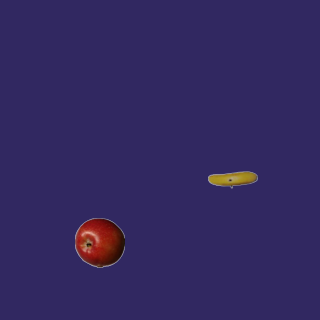Apple Braeburn: (74, 217, 124, 267)
Banana: (207, 154, 257, 204)
